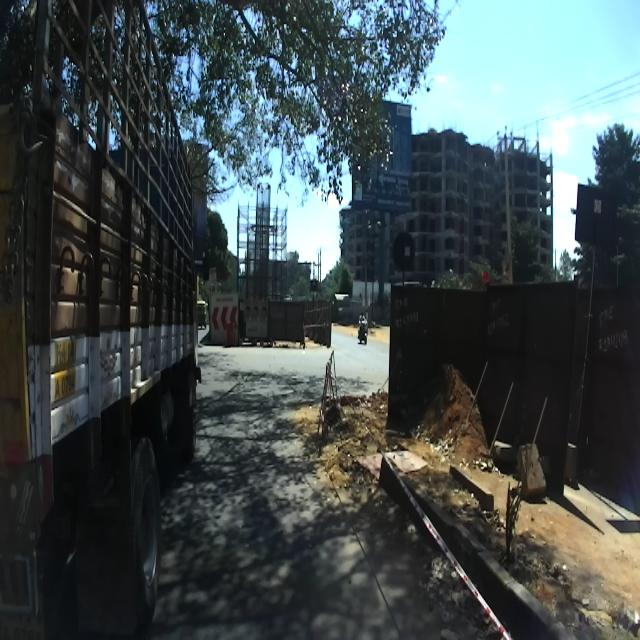truck ahead at: (0, 0, 203, 638)
